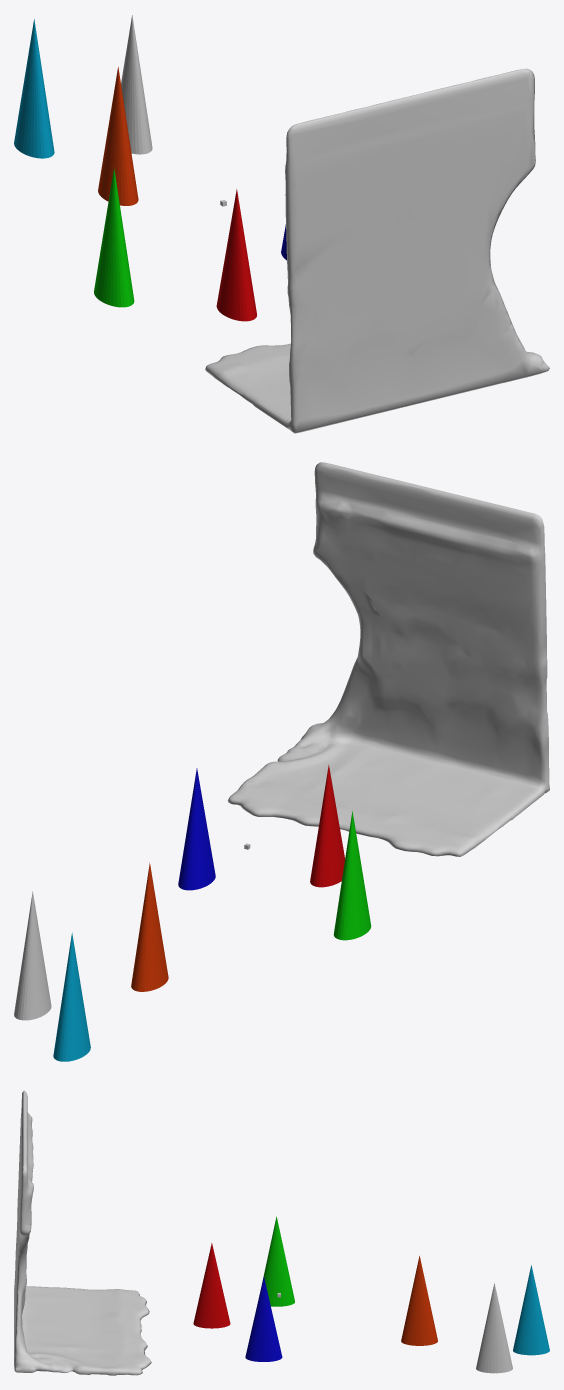
3 views of the same model, one above another, from view 1: azimuth 30°, elevation 25°; view 2: azimuth 150°, elevation 25°; view 3: azimuth 270°, elevation 25° (orthographic). The views are drawn at different scales.
Visible parts, largest first — view 1: Liquid_Domain, 円錐.005, 円錐.003, 円錐.001, 円錐.004, 円錐; view 2: Liquid_Domain, 円錐, 円錐.005, 円錐.003, 円錐.004, 円錐.002, 円錐.001; view 3: Liquid_Domain, 円錐, 円錐.005, 円錐.004, 円錐.001, 円錐.002, 円錐.003.
Boxes of the visible parts, x1,y1,x2,y2 form: Liquid_Domain: [205, 68, 549, 433]; 円錐.005: [14, 19, 54, 158]; 円錐.003: [94, 167, 134, 307]; 円錐.001: [216, 189, 256, 321]; 円錐.004: [98, 67, 138, 205]; 円錐: [121, 15, 152, 154]; Liquid_Domain: [227, 462, 549, 856]; 円錐: [14, 891, 51, 1020]; 円錐.005: [53, 932, 90, 1061]; 円錐.003: [333, 811, 371, 940]; 円錐.004: [131, 862, 168, 991]; 円錐.002: [178, 768, 215, 890]; 円錐.001: [310, 764, 344, 887]; Liquid_Domain: [14, 1090, 151, 1375]; 円錐: [476, 1282, 512, 1373]; 円錐.005: [513, 1265, 549, 1355]; 円錐.004: [401, 1256, 437, 1345]; 円錐.001: [193, 1243, 230, 1328]; 円錐.002: [245, 1276, 282, 1361]; 円錐.003: [262, 1216, 294, 1306].
Size of the model in its own units: 128 by 158 by 347.
